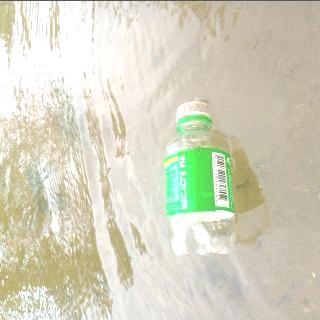bottle: (162, 100, 242, 256)
